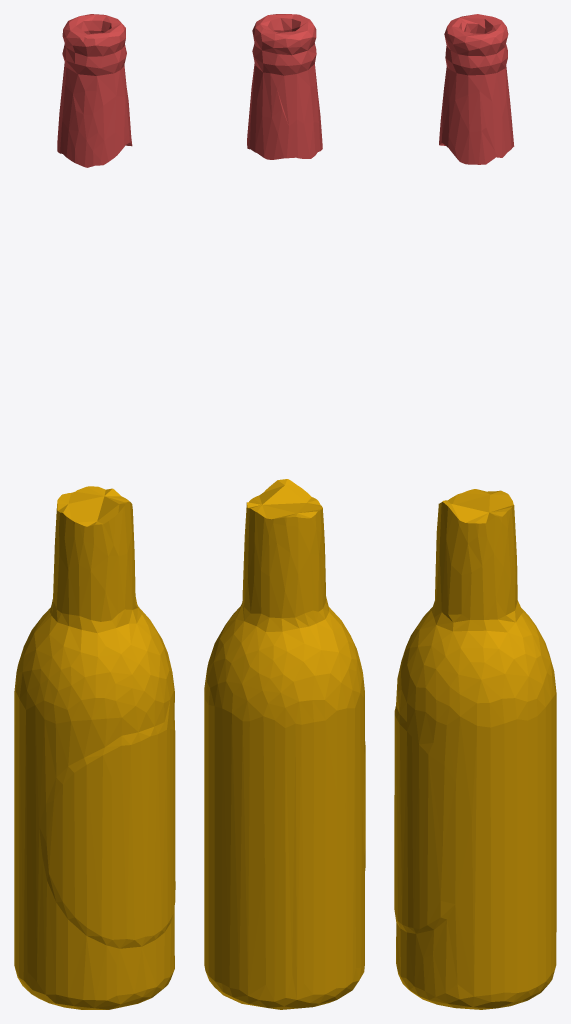
File: fractured_51_2pcs_transformed.glb
3 renders of one model, left to right at view 1: azimuth 30°, elevation 25°; view 2: azimuth 150°, elevation 25°; view 3: azimuth 270°, elevation 25°, orthographic.
Visible parts, largest first — view 1: piece_0.obj, piece_1.obj; view 2: piece_0.obj, piece_1.obj; view 3: piece_0.obj, piece_1.obj.
Part boxes in pixels (bbox=[...]): piece_0.obj: bbox=[14, 486, 175, 1009]; piece_1.obj: bbox=[57, 14, 132, 167]; piece_0.obj: bbox=[204, 479, 365, 1009]; piece_1.obj: bbox=[247, 14, 322, 159]; piece_0.obj: bbox=[394, 489, 556, 1009]; piece_1.obj: bbox=[439, 14, 514, 164].
Bounding box in the file's own units: 0.2434 × 1.6 × 0.246.
